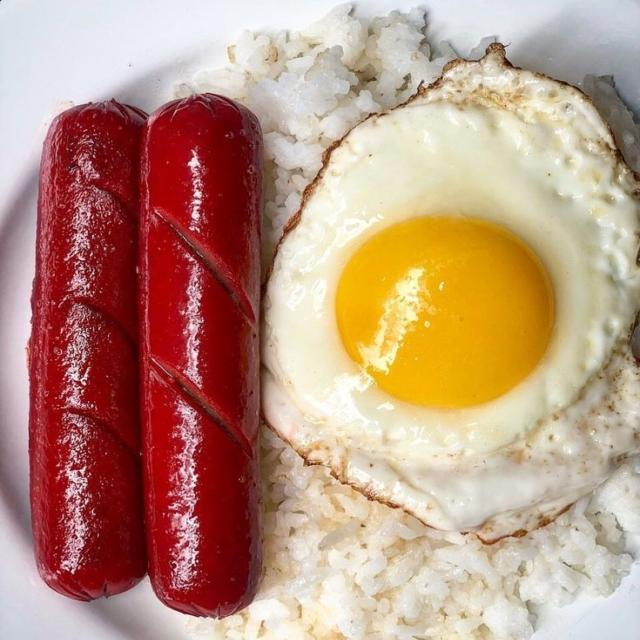fryed egg: (263, 45, 639, 539)
rice: (194, 382, 639, 639), (187, 427, 639, 639), (178, 6, 456, 264)
sausage: (140, 93, 263, 617), (29, 101, 145, 601), (30, 101, 145, 600)
